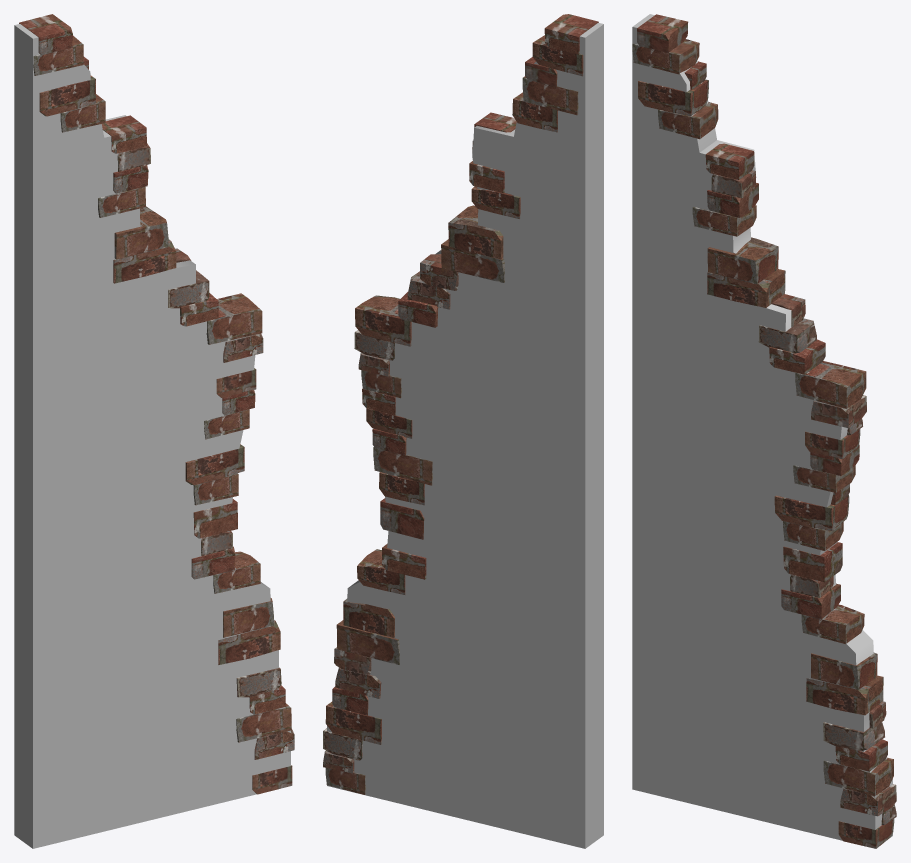
File: SM_Wall_Ruined_23.fbx
3 renders of one model, left to right at view 1: azimuth 30°, elevation 25°; view 2: azimuth 150°, elevation 25°; view 3: azimuth 330°, elevation 25°, orthographic. The views are drawn at different scales.
Parts seen in each view (by area): view 1: SM_Wall_Ruined_23_LOD0; view 2: SM_Wall_Ruined_23_LOD0; view 3: SM_Wall_Ruined_23_LOD0.
Part boxes in pixels (left/top/right/bottom): SM_Wall_Ruined_23_LOD0: left=14, top=14, right=294, bottom=848; SM_Wall_Ruined_23_LOD0: left=323, top=14, right=603, bottom=848; SM_Wall_Ruined_23_LOD0: left=632, top=14, right=896, bottom=848.
Size of what is drawn, in the model's own units: 405 by 1201 by 62.01.
